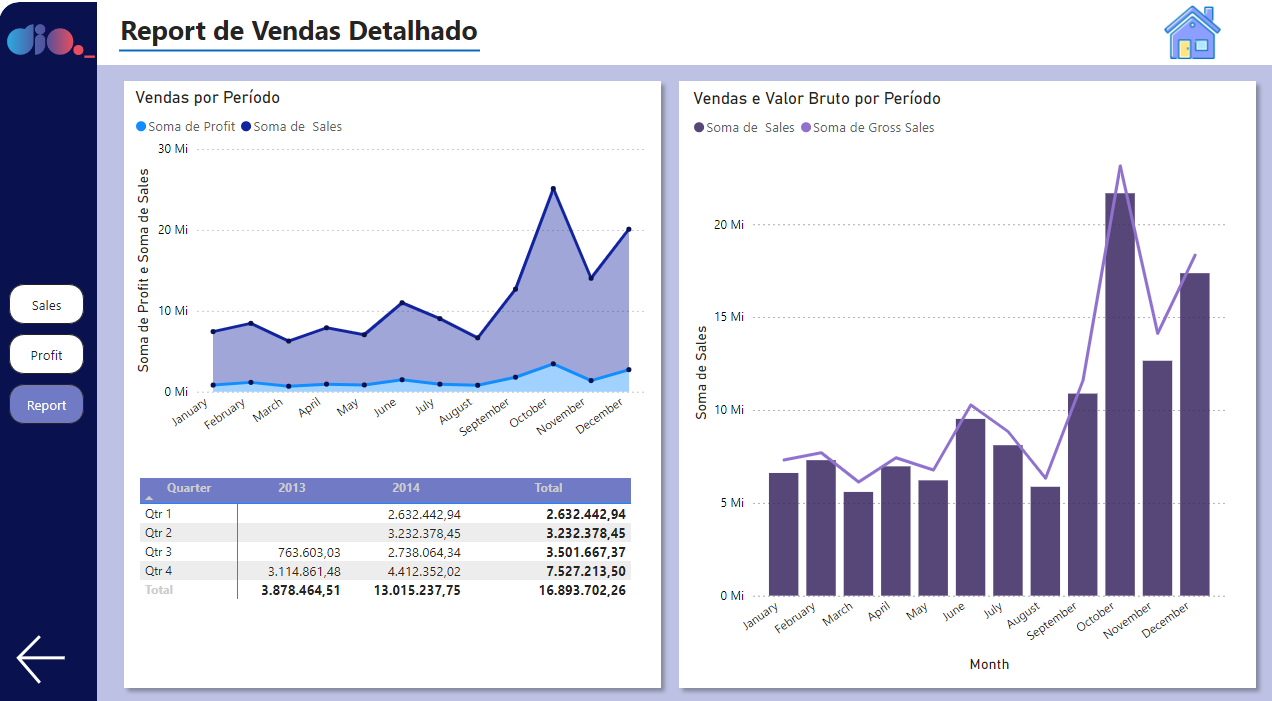

Layout of this report page (visuals, bound fields, positions):
{"tool":"powerbi","page":{"name":"Report","canvas":[1280,720],"ordinal":2},"visuals":[{"type":"shape","box":[11.8,15.1,85.7,705.5],"z":1000},{"type":"shape","box":[0,15,98,706],"z":2000},{"type":"shape","box":[0,15.1,97.4,80.6],"z":3000},{"type":"image","title":"logo_dio","box":[0,6,104,95],"z":4000},{"type":"textbox","box":[116,19,422,51],"z":6000},{"type":"shape","box":[120,42,361,43],"z":7000},{"type":"pageNavigator","box":[10,297,75,140],"z":8000},{"type":"shape","box":[98,78,1182,642],"z":9000},{"type":"actionButton","box":[11.8,642,72.5,60.8],"z":10000},{"type":"shape","box":[116,85,555,625],"z":11000},{"type":"image","box":[1156,8,75,73],"z":12000},{"type":"shape","box":[671,85,595,625],"z":13000},{"type":"stackedAreaChart","title":"Vendas por Período","fields":{"Y":["Sum(financials.Profit)","Sum(financials. Sales)"],"Category":["financials.Date.Variation.Date Hierarchy.Month"]},"box":[131,100,519,386],"z":14000},{"type":"pivotTable","fields":{"Values":["Sum(financials.Profit)"],"Rows":["financials.Date.Variation.Date Hierarchy.Quarter"],"Columns":["financials.Date.Variation.Date Hierarchy.Year"]},"box":[136,486,504,166],"z":15000},{"type":"lineClusteredColumnComboChart","title":"Vendas e Valor Bruto por Período","fields":{"Y":["Sum(financials. Sales)"],"Category":["financials.Date.Variation.Date Hierarchy.Month"],"Y2":["Sum(financials.Gross Sales)"]},"box":[689,101,542,589],"z":16000}]}

Visuals, with their boxes in screenshot pixels (x1, y1, x2, y2), scaled from the page's 1280x720 canvas onto the 1272x701 screenshot:
shape: {"x1": 12, "y1": 15, "x2": 97, "y2": 700}
shape: {"x1": 0, "y1": 15, "x2": 97, "y2": 700}
shape: {"x1": 0, "y1": 15, "x2": 97, "y2": 93}
"logo_dio" image: {"x1": 0, "y1": 6, "x2": 103, "y2": 98}
textbox: {"x1": 115, "y1": 18, "x2": 535, "y2": 68}
shape: {"x1": 119, "y1": 41, "x2": 478, "y2": 83}
pageNavigator: {"x1": 10, "y1": 289, "x2": 84, "y2": 425}
shape: {"x1": 97, "y1": 76, "x2": 1271, "y2": 700}
actionButton: {"x1": 12, "y1": 625, "x2": 84, "y2": 684}
shape: {"x1": 115, "y1": 83, "x2": 667, "y2": 691}
image: {"x1": 1149, "y1": 8, "x2": 1223, "y2": 79}
shape: {"x1": 667, "y1": 83, "x2": 1258, "y2": 691}
"Vendas por Período" stackedAreaChart: {"x1": 130, "y1": 97, "x2": 646, "y2": 473}
pivotTable - Sum(financials.Profit) x financials.Date.Variation.Date Hierarchy.Quarter: {"x1": 135, "y1": 473, "x2": 636, "y2": 635}
"Vendas e Valor Bruto por Período" lineClusteredColumnComboChart: {"x1": 685, "y1": 98, "x2": 1223, "y2": 672}
